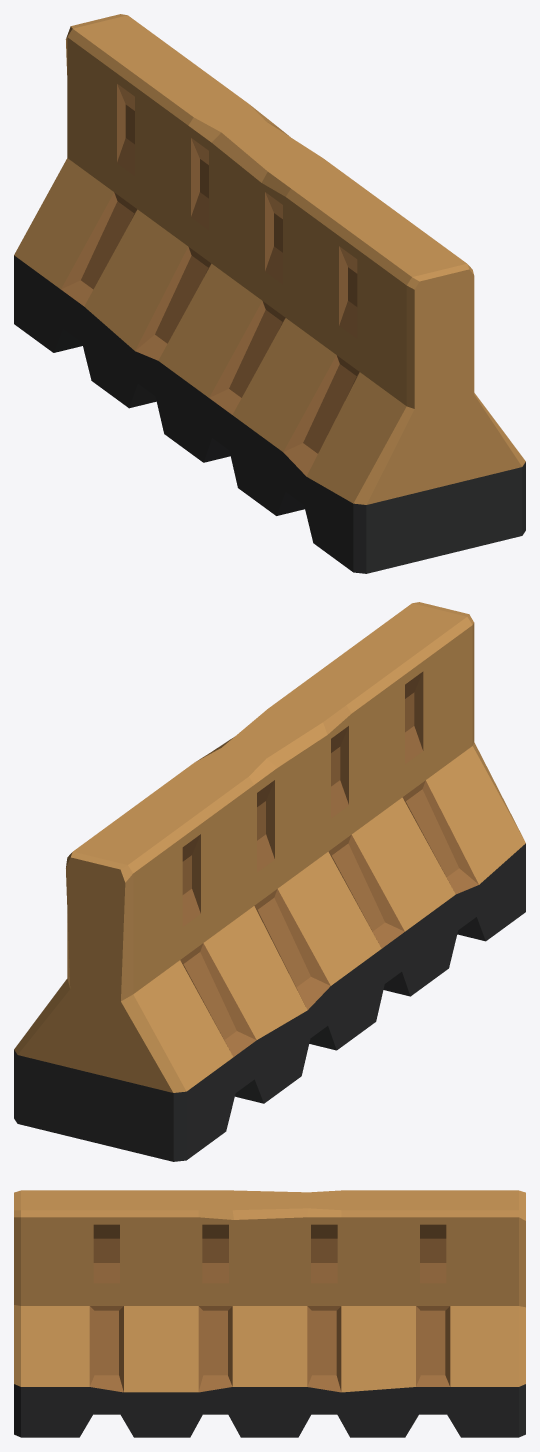
File: city_SM_Prop_Barrier_Plastic_03.gltf
The picture shows the model from 3 angles, top to bottom: view 1: azimuth 30°, elevation 25°; view 2: azimuth 150°, elevation 25°; view 3: azimuth 270°, elevation 25°; orthographic projection. The views are drawn at different scales.
Visible parts, largest first — view 1: SM_Prop_Barrier_Plastic_03; view 2: SM_Prop_Barrier_Plastic_03; view 3: SM_Prop_Barrier_Plastic_03.
Part boxes in pixels (x1,y1,x2,y2): SM_Prop_Barrier_Plastic_03: (14,14,525,573); SM_Prop_Barrier_Plastic_03: (14,602,525,1161); SM_Prop_Barrier_Plastic_03: (14,1190,525,1437).
Size of the model in its own units: 0.6543 by 1.02 by 2.29.
Materials: 1 (1 with a texture image).
